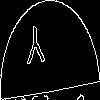Y: (25, 25, 46, 74)
